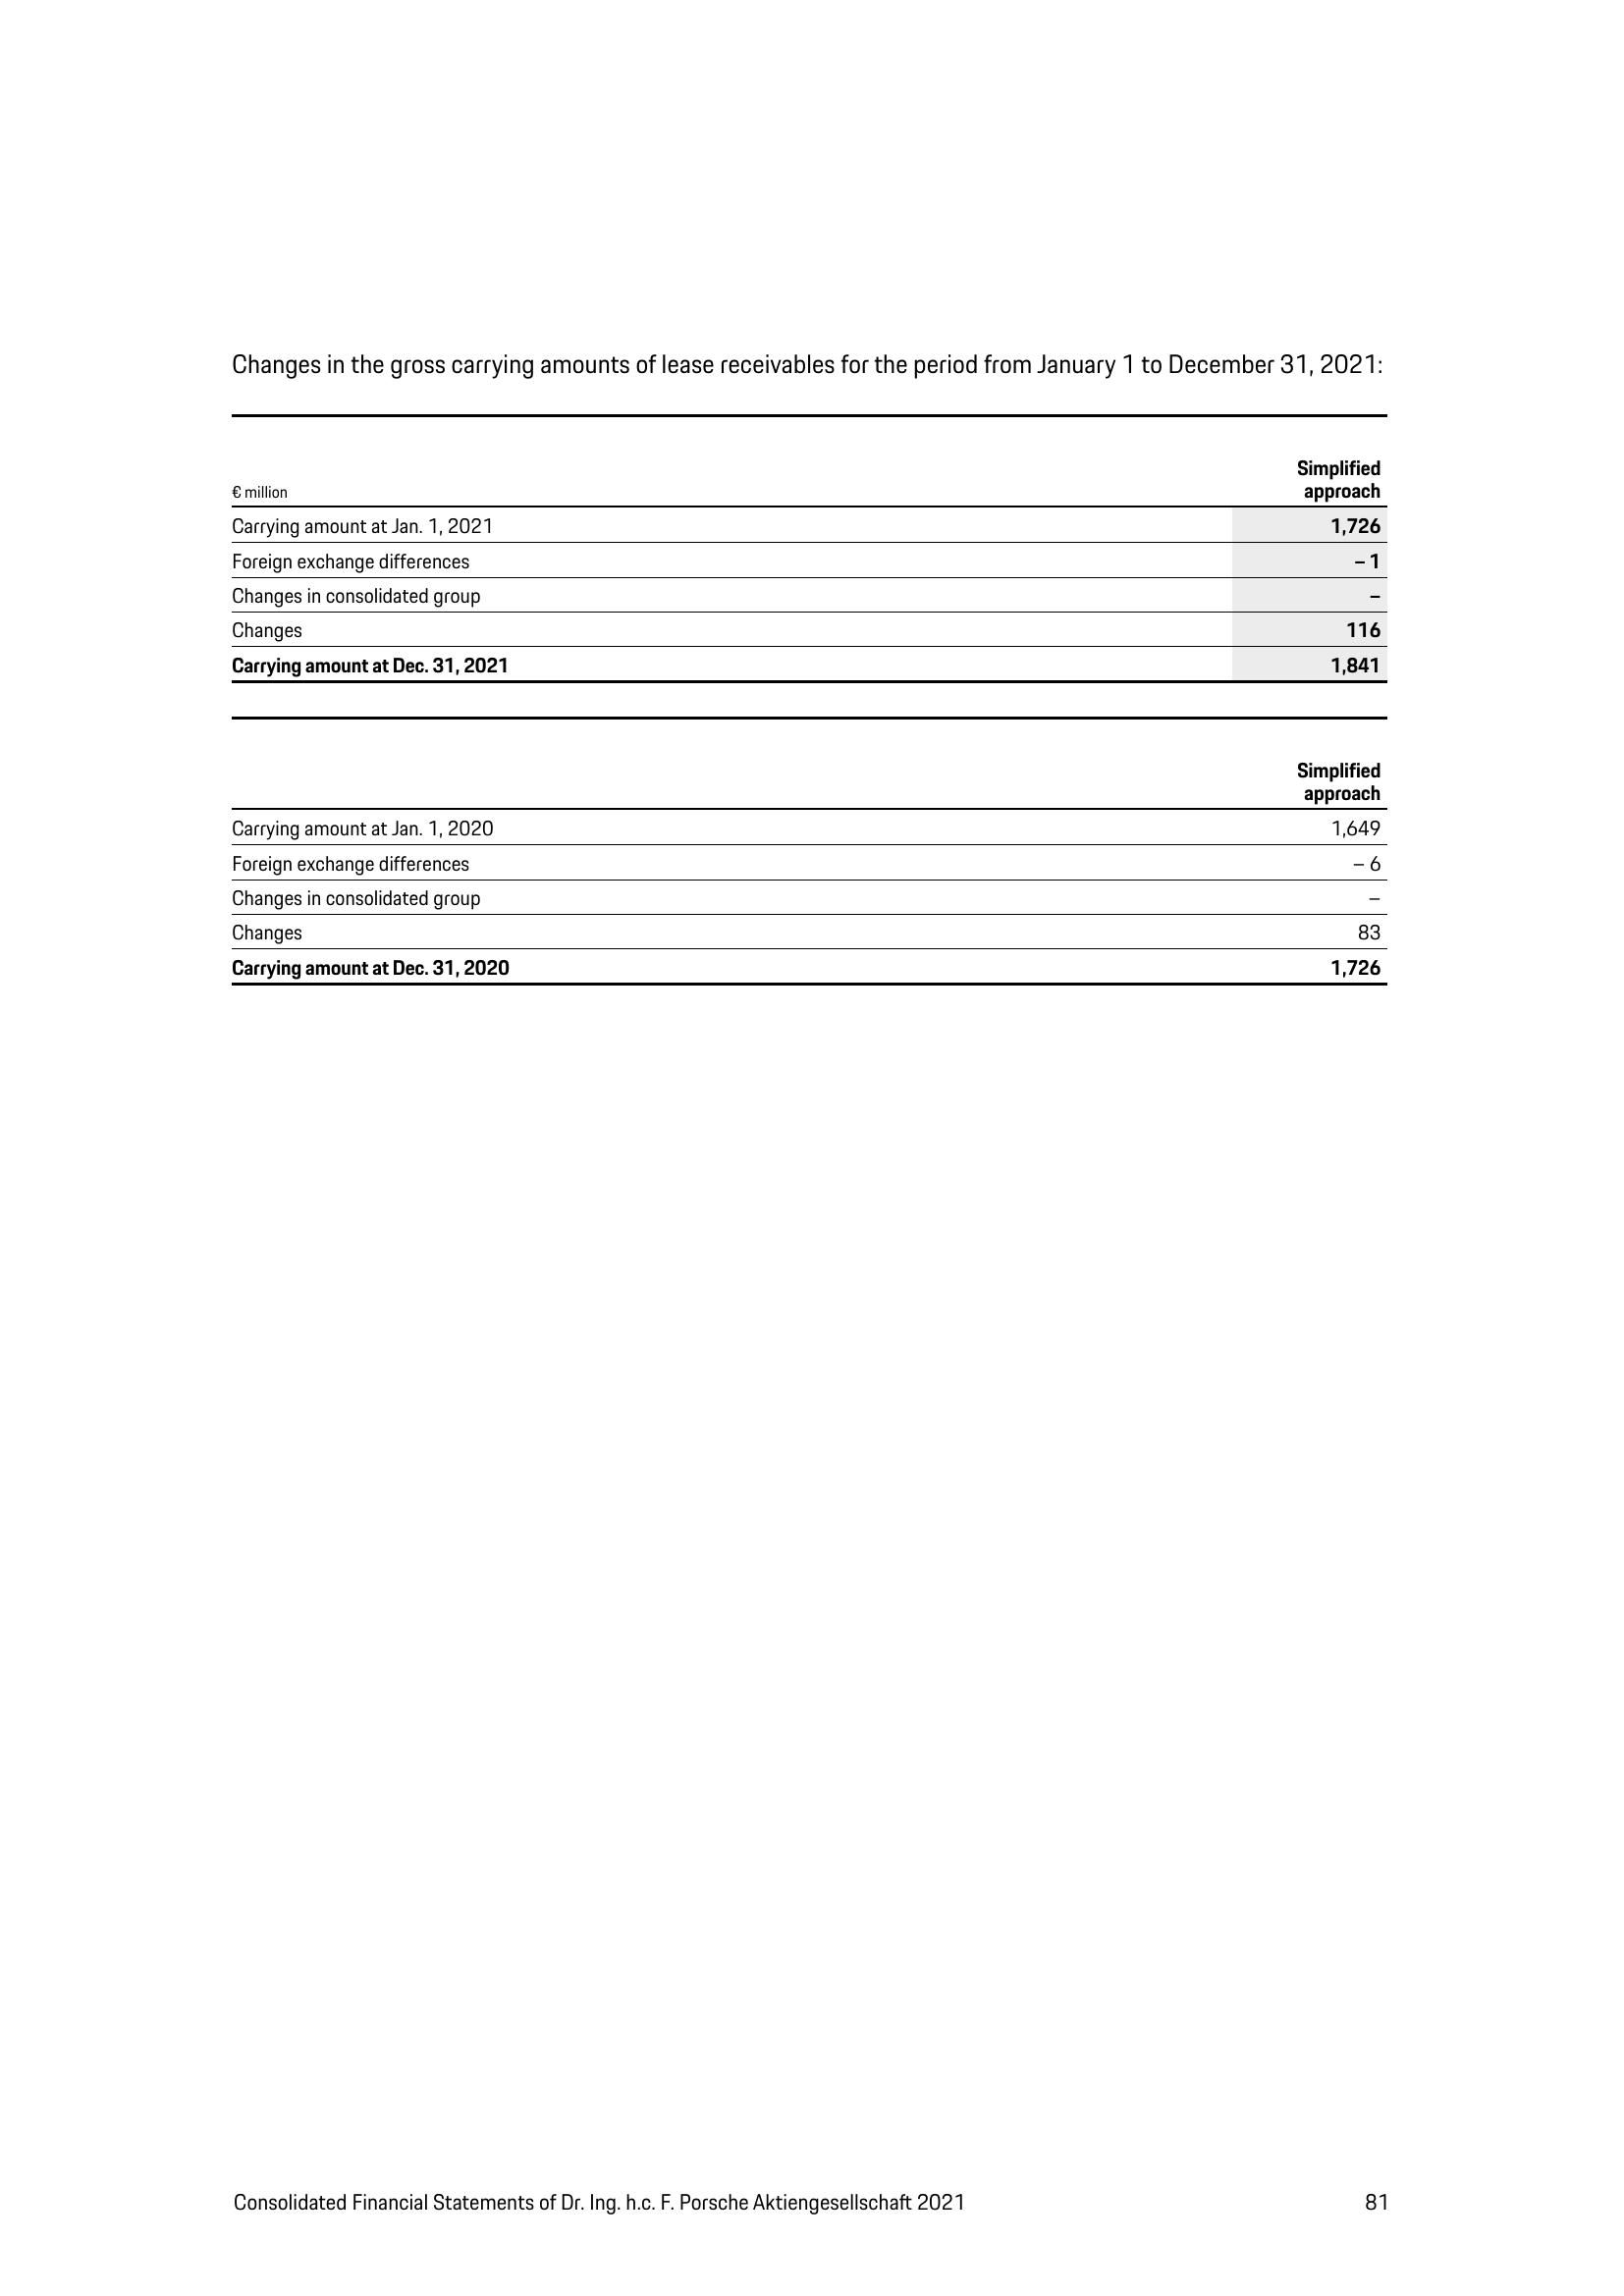Footer: (0, 2148, 1624, 2296)
Header: (0, 0, 1624, 220)
Table: (123, 711, 1452, 1015), (118, 411, 1438, 694)
